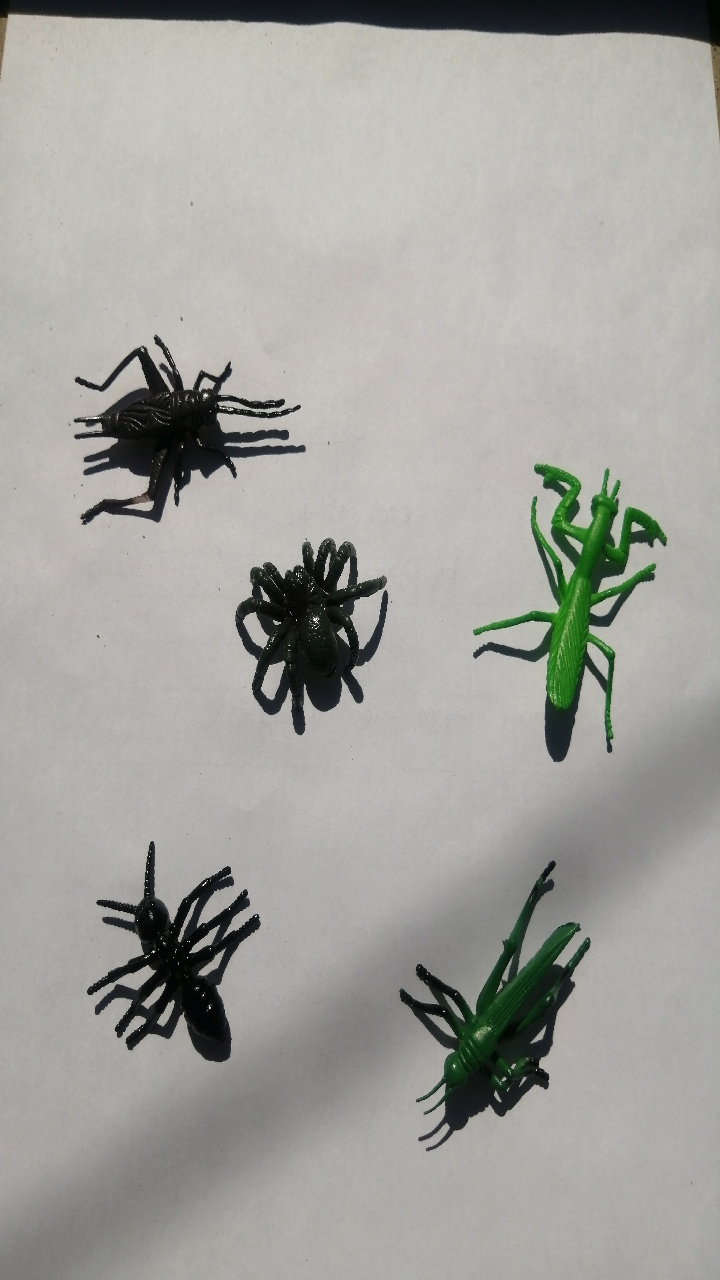intruso: (368, 843, 628, 1169), (444, 428, 677, 786), (43, 295, 331, 543), (55, 822, 291, 1091), (206, 508, 403, 748)
